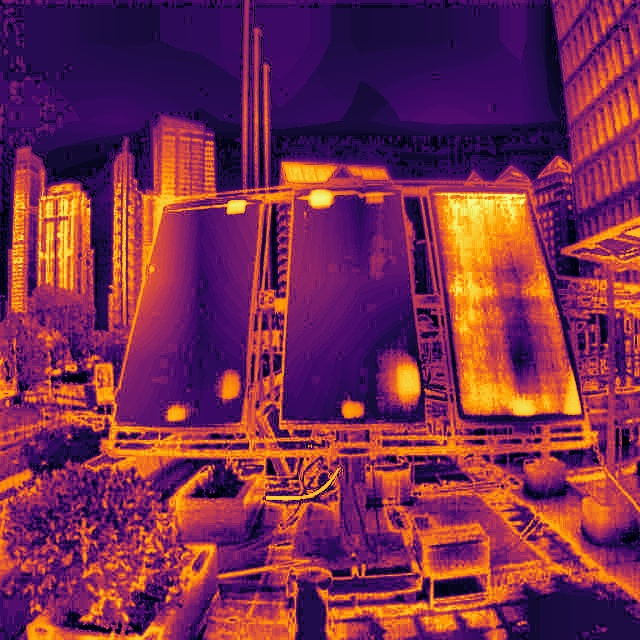Hotspot: (430, 188, 583, 421), (397, 365, 417, 395), (222, 371, 239, 399), (310, 189, 332, 206), (343, 402, 363, 418), (167, 405, 185, 421), (228, 200, 245, 214)
Mild: (222, 370, 239, 399), (343, 402, 363, 418), (167, 405, 185, 421)
Moderate: (430, 188, 582, 421), (398, 365, 417, 394)
Moderate-High: (310, 189, 332, 206), (228, 200, 245, 214)
healthy_panel: (430, 188, 582, 421), (281, 191, 423, 420), (117, 200, 260, 425)
